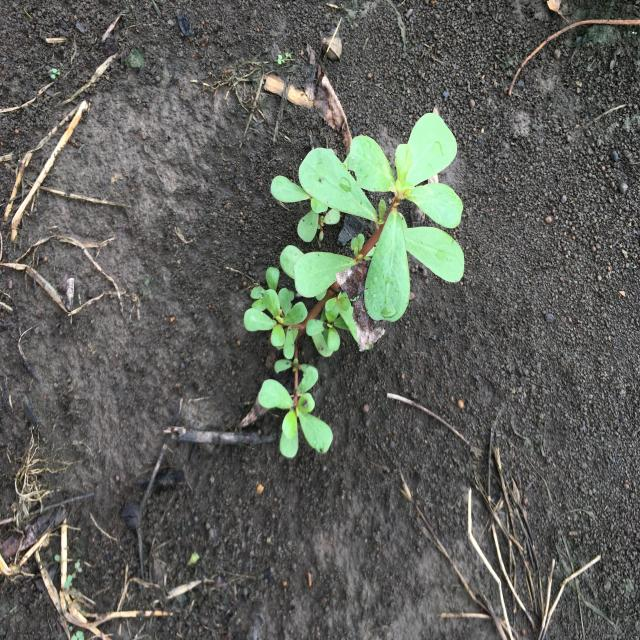Purslane: (243, 113, 464, 458)
